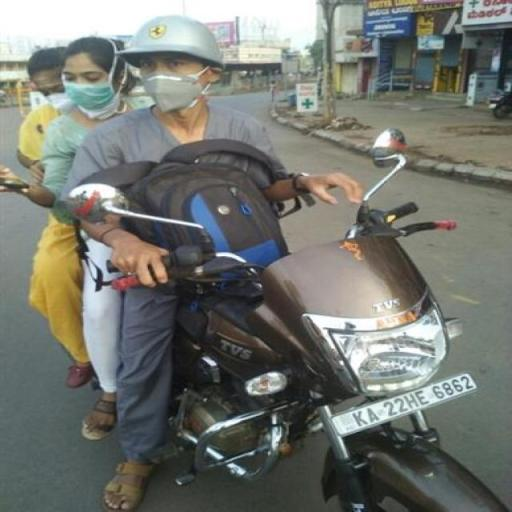tripple riding: (0, 10, 351, 268)
